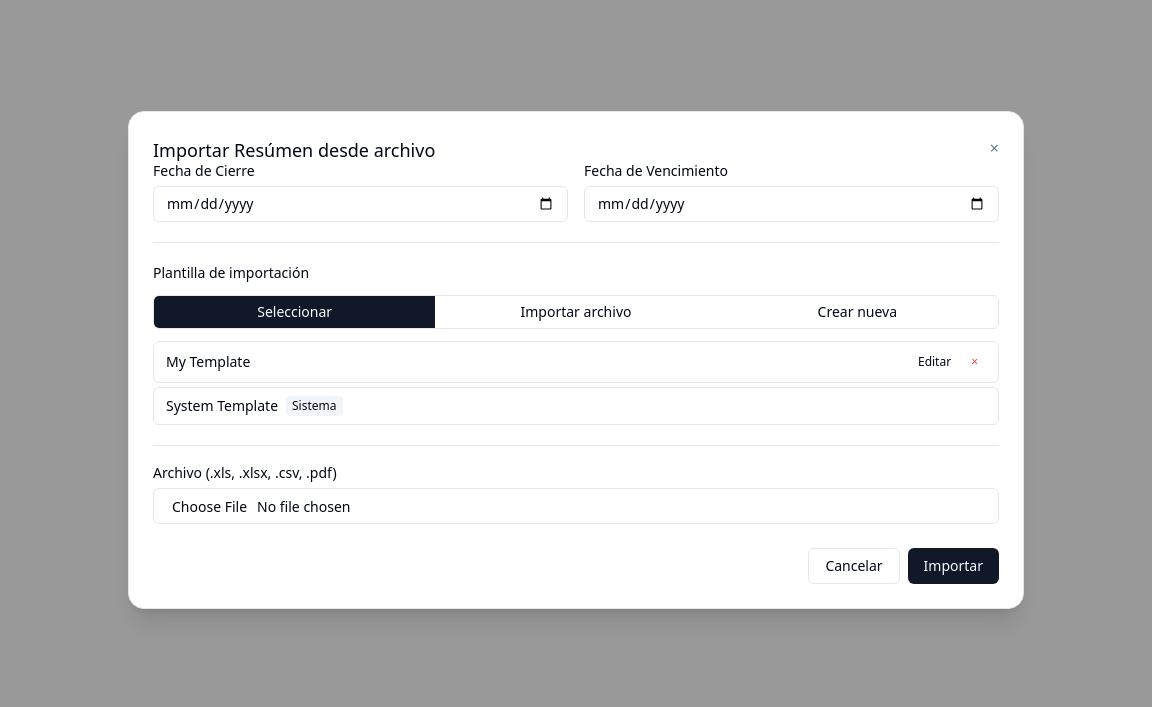
it: ImportStatementModal › switches back to the template list when clicking the Seleccionar tab
This screenshot has width=1152, height=707.
expect the text "My Template" is shown: met, box x1=166 y1=352 x2=250 y2=372
What coordinates should you click on to do the following:
click the button "Crear nueva"
I would click on:
 (857, 312)
Its box is x1=717 y1=296 x2=998 y2=328.
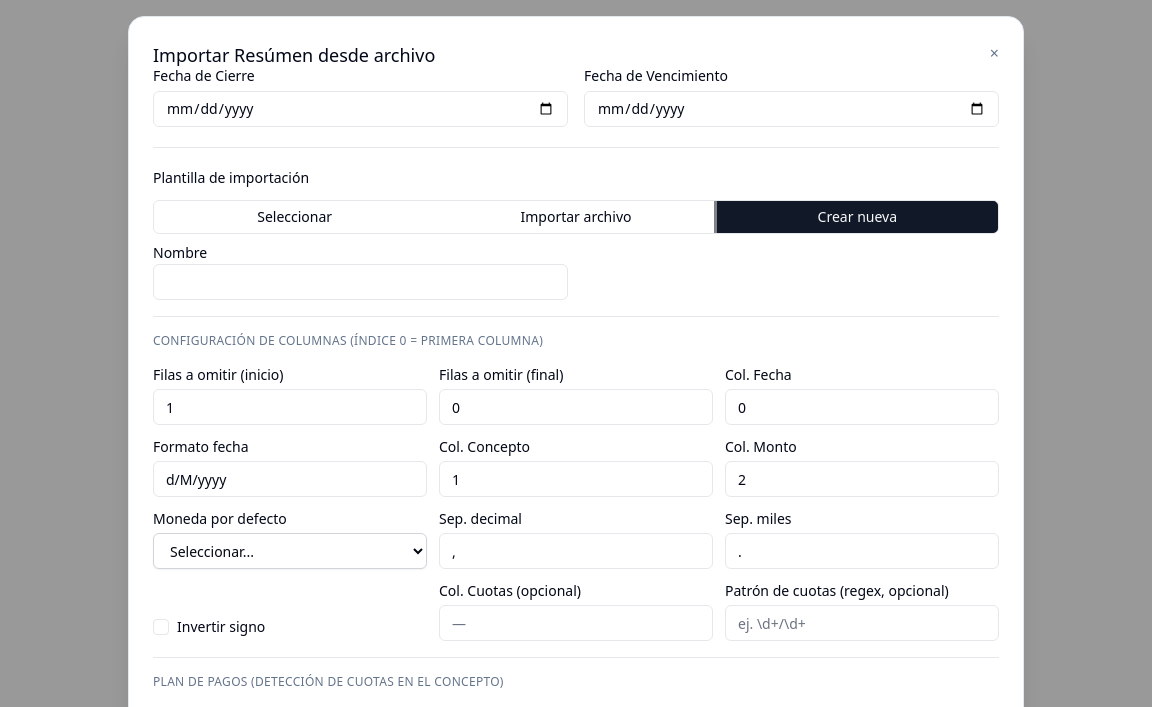
expect the field with placeholder "d/M/yyyy" below "Formato fecha" is shown: met, box x1=153 y1=461 x2=427 y2=497
What coordinates should you click on to do the following:
click the button "Seleccionar"
I would click on:
 (295, 217)
Its box is x1=154 y1=201 x2=435 y2=233.
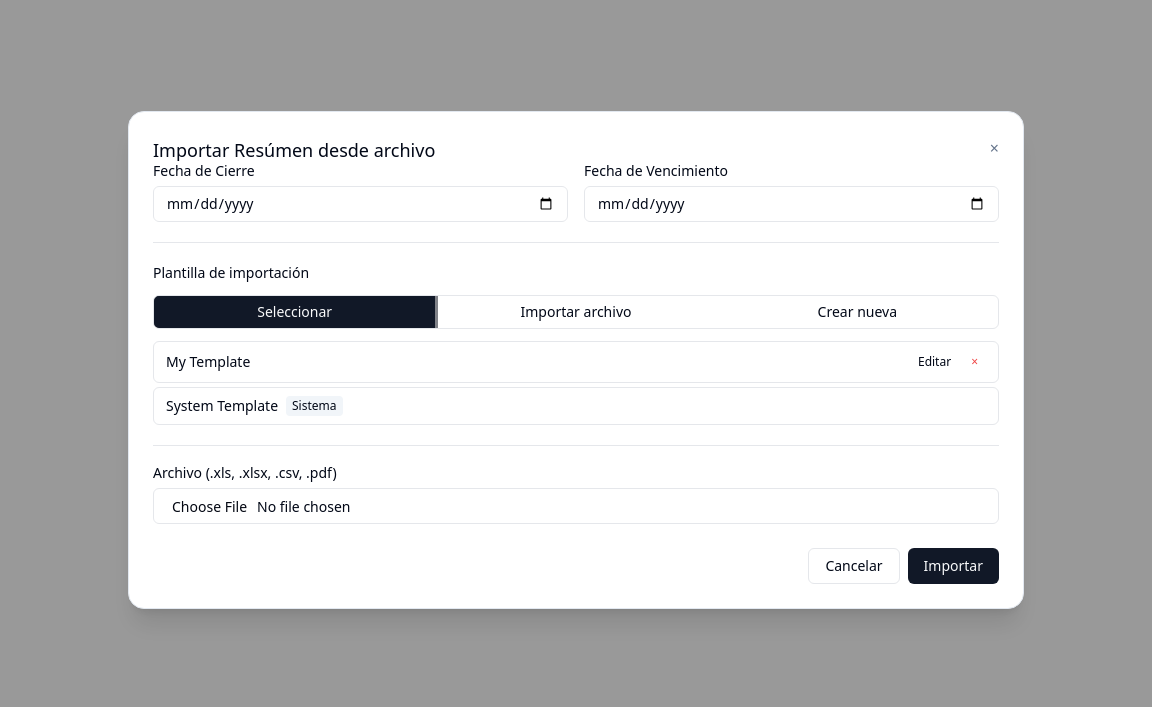
expect the field with placeholder "d/M/yyyy" is gone: met
